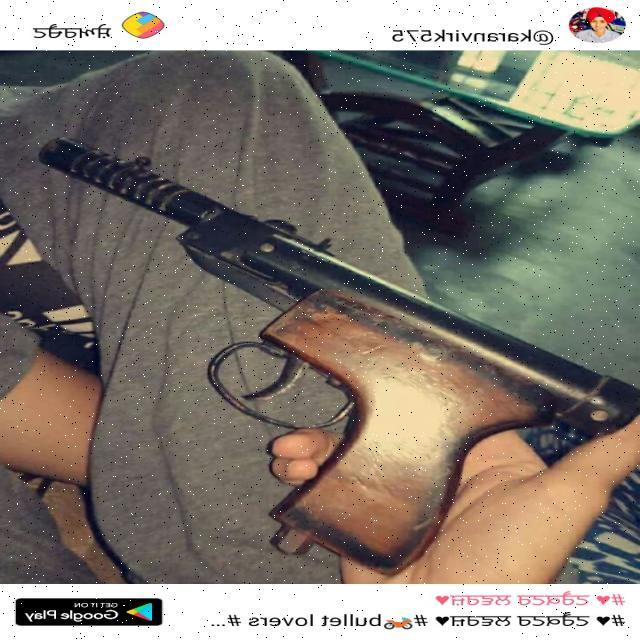gun: (19, 124, 640, 576)
